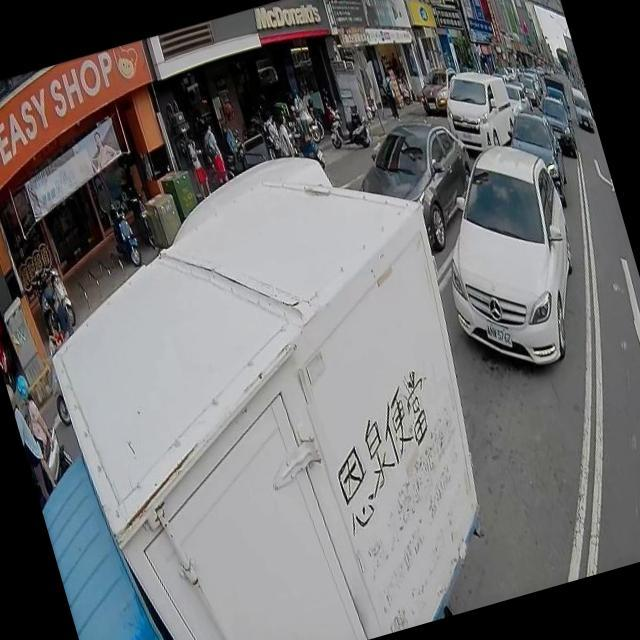person: (11, 368, 68, 492), (5, 377, 55, 503), (34, 272, 74, 344), (196, 116, 232, 186), (184, 132, 213, 198), (268, 110, 298, 160), (292, 89, 316, 144), (260, 115, 284, 161), (380, 72, 400, 120), (190, 108, 210, 140)
